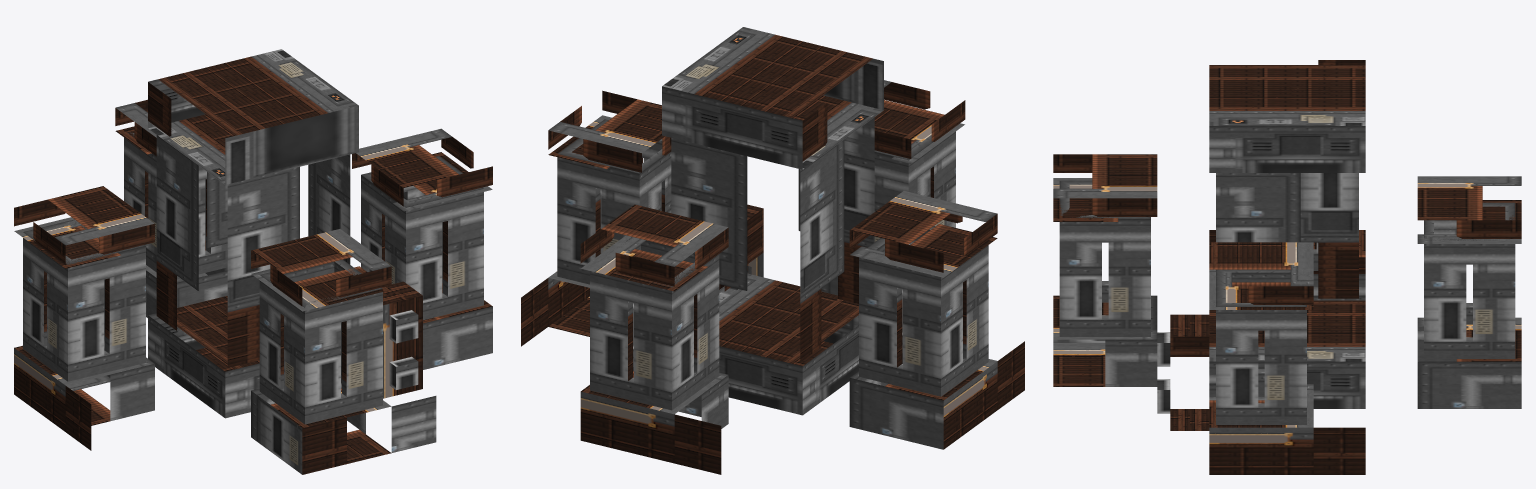
The model's file is chemical_reactor_large.obj.
The picture shows the model from 3 angles, left to right: view 1: azimuth 30°, elevation 25°; view 2: azimuth 150°, elevation 25°; view 3: azimuth 270°, elevation 25°; orthographic projection. The views are drawn at different scales.
Parts seen in each view (by area): view 1: cube.037; view 2: cube.037; view 3: cube.037.
Boxes of the visible parts, x1,y1,x2,y2 form: cube.037: (14, 49, 492, 474); cube.037: (521, 27, 1024, 474); cube.037: (1053, 60, 1521, 474).
Size of the model in its own units: 9 by 6 by 9.
